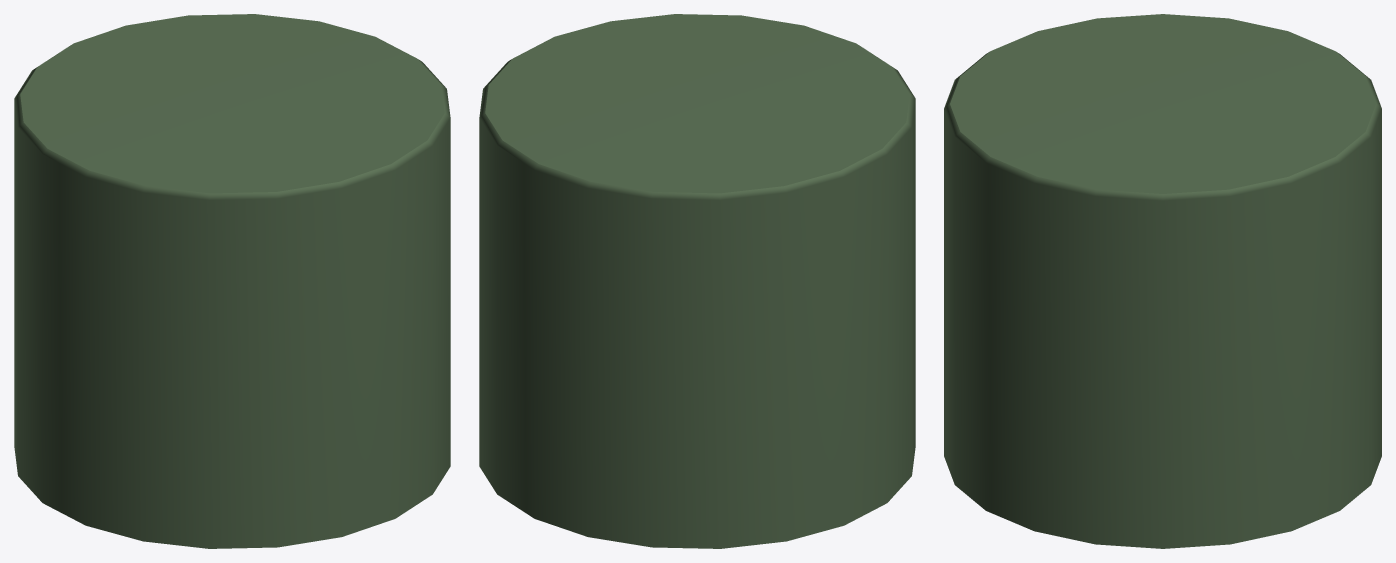
Rendered from Checker_Sp_Tube_02.fbx.
3 views of the same model, side by side, from view 1: azimuth 30°, elevation 25°; view 2: azimuth 150°, elevation 25°; view 3: azimuth 270°, elevation 25° (orthographic).
Parts seen in each view (by area): view 1: Checker_Sp_Tube_02; view 2: Checker_Sp_Tube_02; view 3: Checker_Sp_Tube_02.
Boxes of the visible parts, x1,y1,x2,y2 form: Checker_Sp_Tube_02: (14, 14, 450, 548); Checker_Sp_Tube_02: (479, 14, 915, 548); Checker_Sp_Tube_02: (944, 14, 1381, 548).
Bounding box in the file's own units: 3.72 × 3.33 × 3.72.
